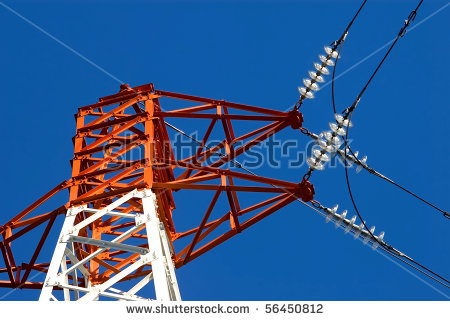isolator: (324, 204, 385, 251), (307, 114, 351, 171), (297, 45, 342, 99), (314, 131, 368, 173)
